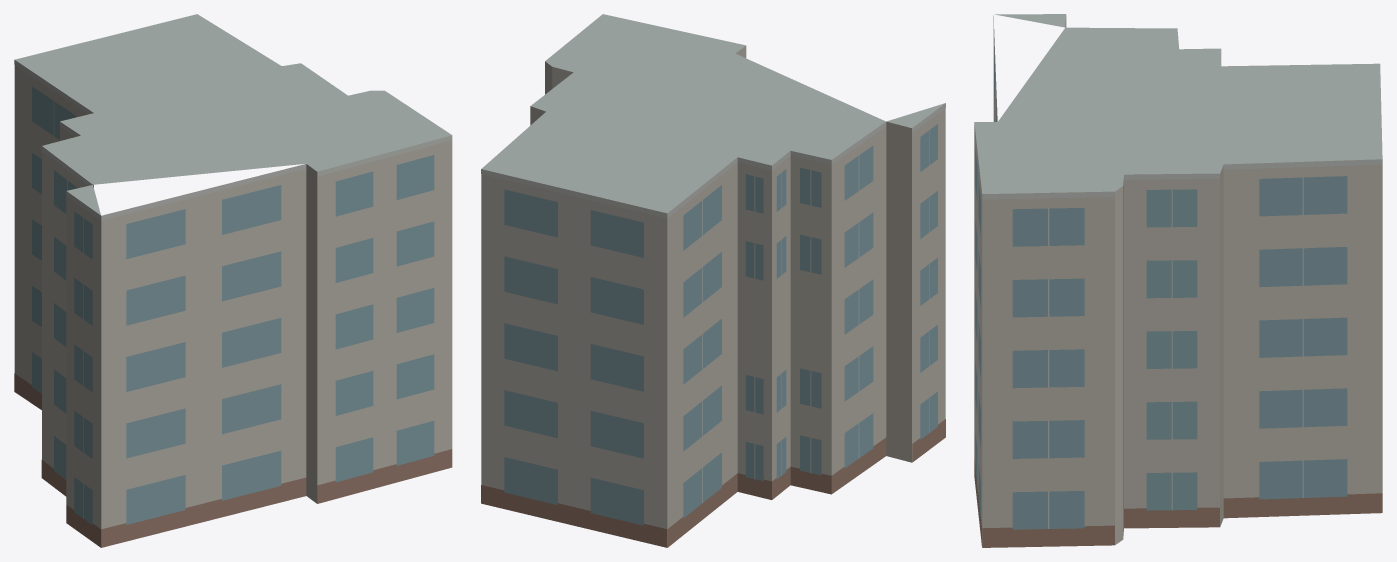
File: survey-upis-32880377.glb
3 renders of one model, left to right at view 1: azimuth 30°, elevation 25°; view 2: azimuth 150°, elevation 25°; view 3: azimuth 270°, elevation 25°, orthographic. The views are drawn at different scales.
Visible parts, largest first — view 1: survey-upis-32880377.tmp; view 2: survey-upis-32880377.tmp; view 3: survey-upis-32880377.tmp.
Boxes of the visible parts, <box> form: survey-upis-32880377.tmp: <box>14,14,452,547</box>; survey-upis-32880377.tmp: <box>481,14,945,547</box>; survey-upis-32880377.tmp: <box>974,14,1382,547</box>.
Size of the model in its own units: 17.63 by 16.14 by 16.89.
